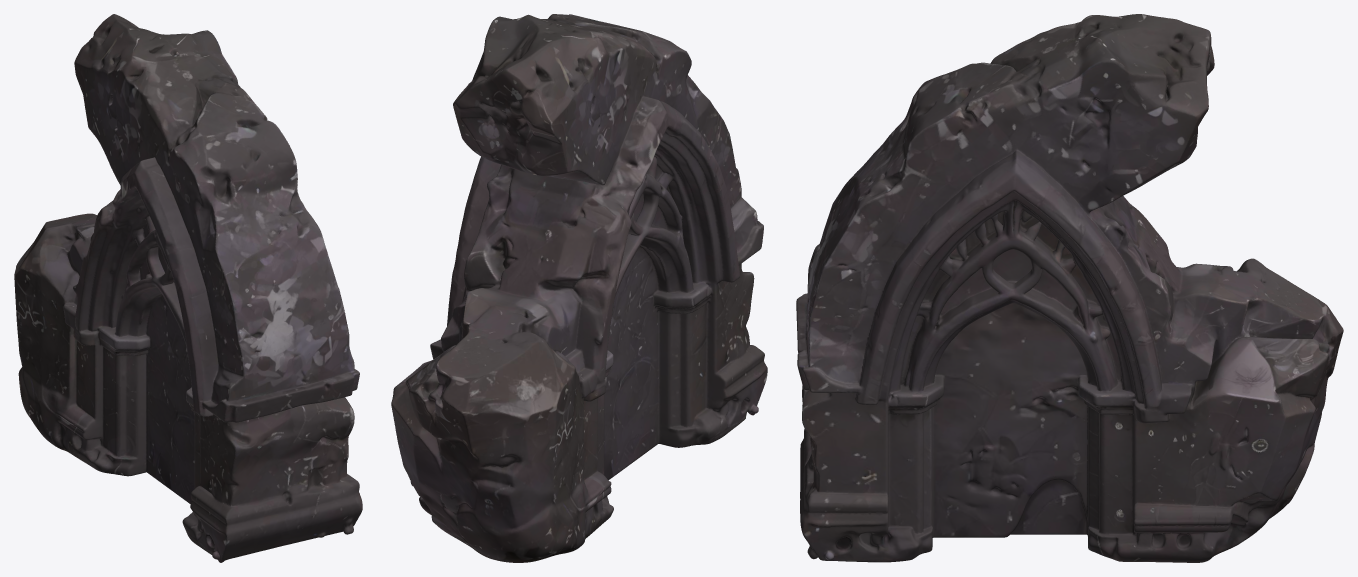
Rendered from altar_fragment_b.glb.
3 views of the same model, side by side, from view 1: azimuth 30°, elevation 25°; view 2: azimuth 150°, elevation 25°; view 3: azimuth 270°, elevation 25° (orthographic). The views are drawn at different scales.
Visible parts, largest first — view 1: tripo_node_99807952-b0ed-4fd3-8951-9c4e6181e185; view 2: tripo_node_99807952-b0ed-4fd3-8951-9c4e6181e185; view 3: tripo_node_99807952-b0ed-4fd3-8951-9c4e6181e185.
Boxes of the visible parts, x1=… form: tripo_node_99807952-b0ed-4fd3-8951-9c4e6181e185: x1=14, y1=14, x2=362, y2=562; tripo_node_99807952-b0ed-4fd3-8951-9c4e6181e185: x1=391, y1=14, x2=767, y2=562; tripo_node_99807952-b0ed-4fd3-8951-9c4e6181e185: x1=796, y1=14, x2=1343, y2=562.
Size of the model in its own units: 0.3722 by 1 by 0.9866.
1 material, 1 textured.
